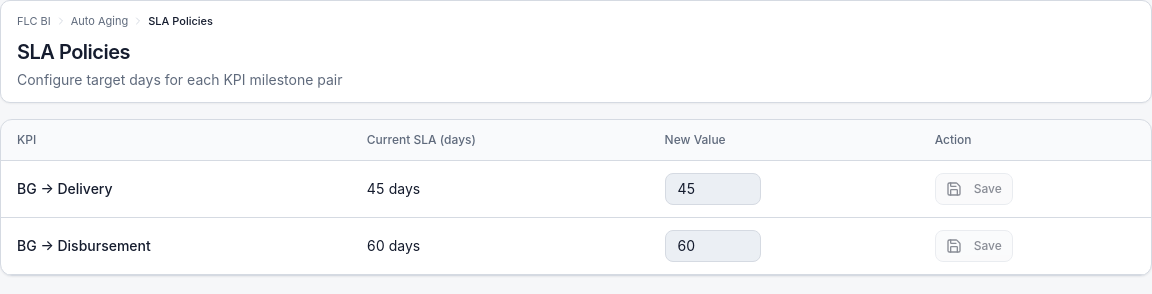
Test: SLAAdmin › enables save for edited rows and persists the changed SLA value
The image size is (1152, 294).
Check: the text "BG -> Delivery" is shown, box x1=17 y1=180 x2=113 y2=196
Check: the text "BG -> Disbursement" is shown, box x1=17 y1=236 x2=151 y2=254
Replace the text in the number field in the row of "BG -> Delivery" with "52": (713, 188) x1=665 y1=172 x2=761 y2=204
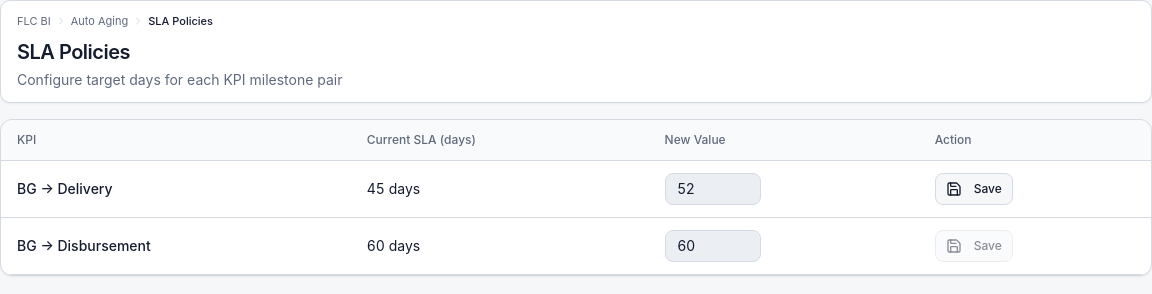
Check: the button "Save" in the row of "BG -> Disbursement" is disabled, box x1=935 y1=230 x2=1013 y2=262
Check: the button "Save" in the row of "BG -> Delivery" is enabled
Click the button "Save" in the row of "BG -> Delivery": (974, 188) x1=935 y1=172 x2=1013 y2=204
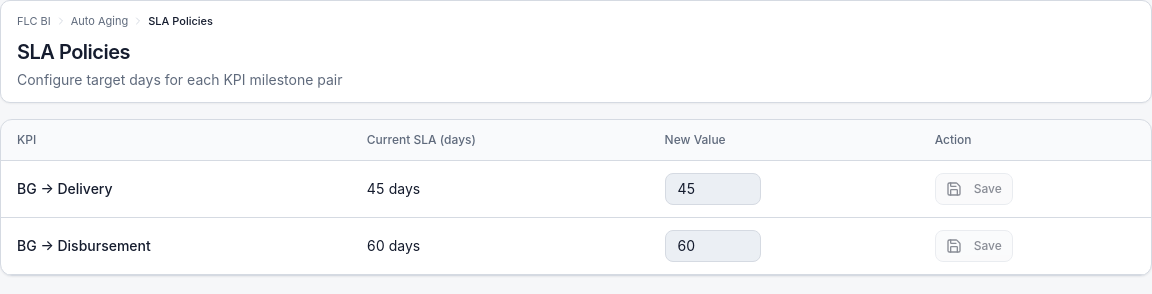
Check: the button "Save" in the row of "BG -> Delivery" is disabled, box x1=935 y1=172 x2=1013 y2=204
